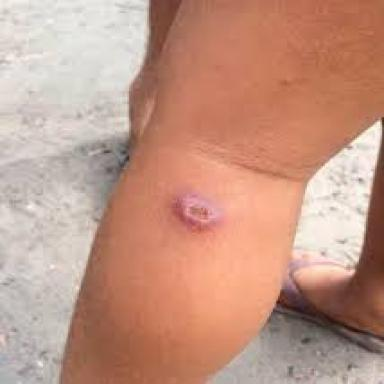Leishmanios: (172, 194, 219, 230)
